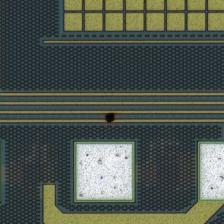PARTICLE: (103, 111, 119, 127)
